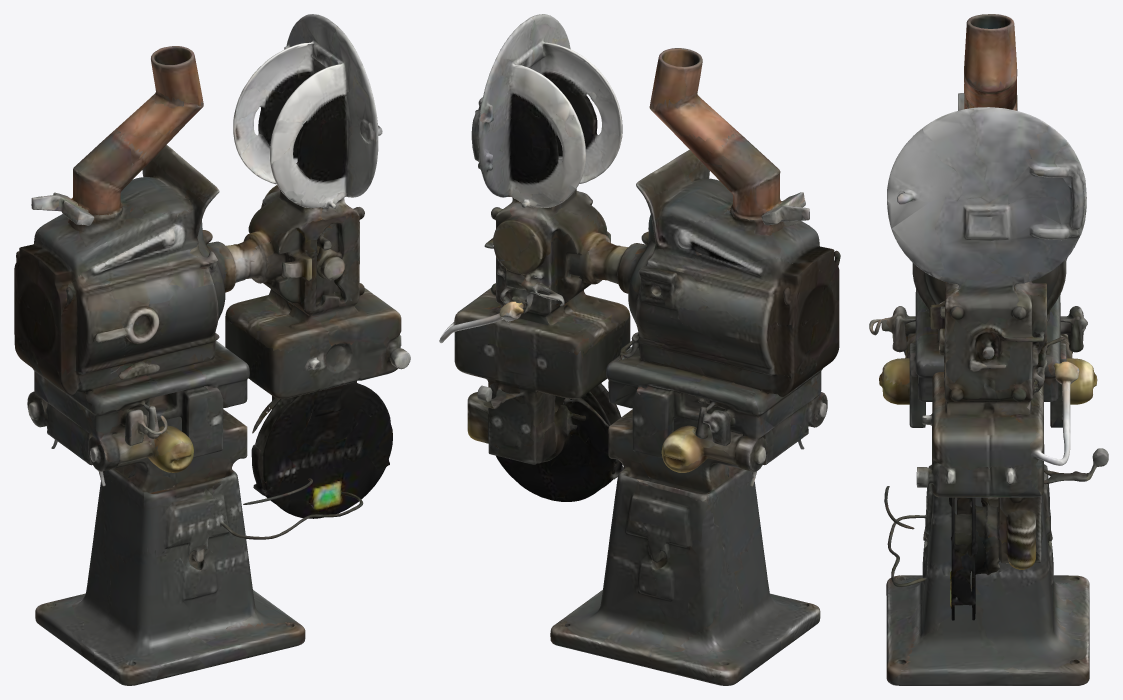
Rendered from camara_cine.glb.
The picture shows the model from 3 angles, left to right: view 1: azimuth 30°, elevation 25°; view 2: azimuth 150°, elevation 25°; view 3: azimuth 270°, elevation 25°; orthographic projection. The views are drawn at different scales.
Visible parts, largest first — view 1: Mesh_0.001; view 2: Mesh_0.001; view 3: Mesh_0.001.
Boxes of the visible parts, <box> form: Mesh_0.001: <box>14,14,410,685</box>; Mesh_0.001: <box>439,14,840,685</box>; Mesh_0.001: <box>869,14,1108,685</box>.
Size of the model in its own units: 1.19 by 1.9 by 0.6648.
1 material, 1 textured.
